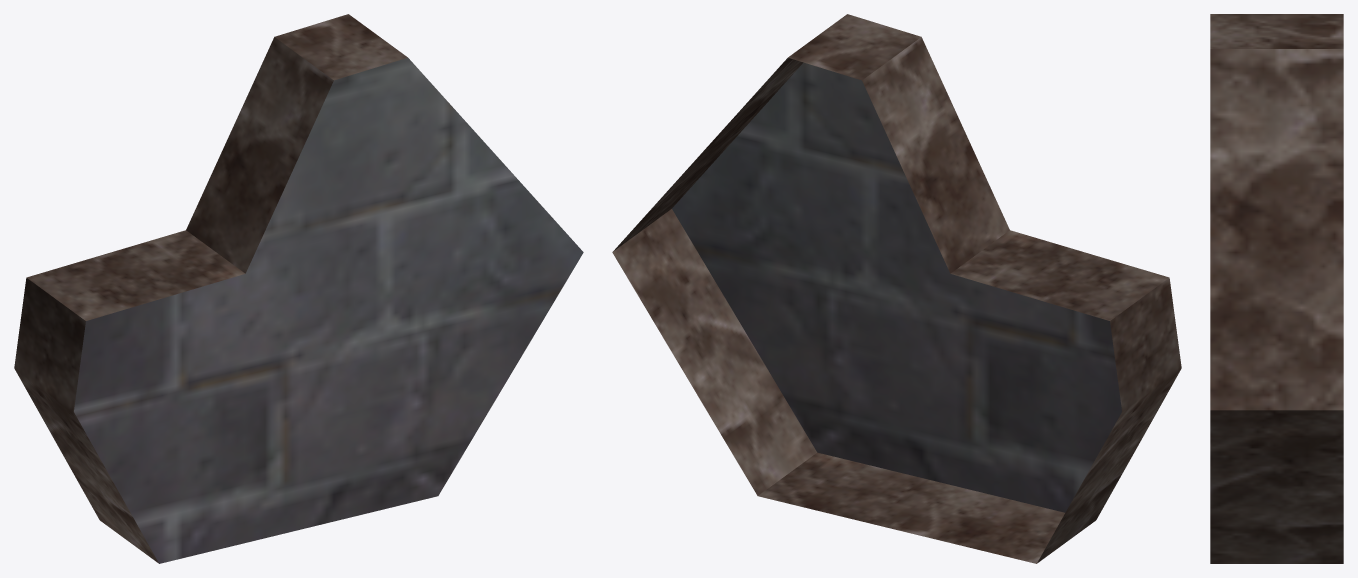
Rendered from building_underground_feixu01.FBX.
The picture shows the model from 3 angles, left to right: view 1: azimuth 30°, elevation 25°; view 2: azimuth 150°, elevation 25°; view 3: azimuth 270°, elevation 25°; orthographic projection. The views are drawn at different scales.
Parts seen in each view (by area): view 1: building_underground_feixu01; view 2: building_underground_feixu01; view 3: building_underground_feixu01.
Boxes of the visible parts, <box> form: building_underground_feixu01: <box>14,14,583,563</box>; building_underground_feixu01: <box>612,14,1181,563</box>; building_underground_feixu01: <box>1210,14,1343,563</box>.
Bounding box in the file's own units: 1.87 × 1.56 × 0.3785.
